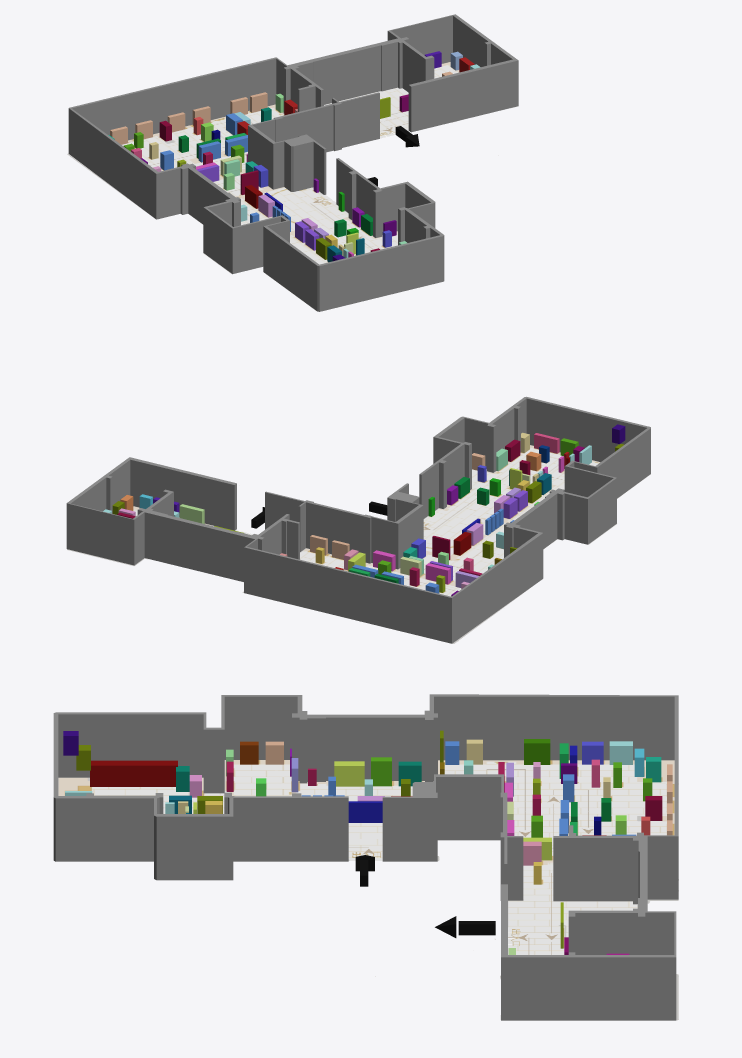
File: tao.obj
3 renders of one model, top to bottom at view 1: azimuth 30°, elevation 25°; view 2: azimuth 150°, elevation 25°; view 3: azimuth 270°, elevation 25°, orthographic. The views are drawn at different scales.
Parts seen in each view (by area): view 1: Line001, Line002, Plane001; view 2: Line001, Plane001, Line002; view 3: Line001, Plane001, Line002, Box102, Box086, Box092, Box062, Box085, Box133.
Part boxes in pixels (bbox=[...]): Line001: bbox=[68, 14, 518, 311]; Line002: bbox=[248, 92, 379, 194]; Plane001: bbox=[67, 62, 516, 311]; Line001: bbox=[66, 396, 650, 643]; Plane001: bbox=[67, 445, 650, 643]; Line002: bbox=[265, 483, 423, 569]; Line001: bbox=[53, 694, 678, 1020]; Plane001: bbox=[58, 760, 678, 1020]; Line002: bbox=[382, 774, 523, 900]; Box102: bbox=[90, 760, 177, 786]; Box086: bbox=[334, 761, 364, 786]; Box092: bbox=[348, 801, 382, 822]; Box062: bbox=[524, 739, 550, 764]; Box085: bbox=[371, 757, 391, 786]; Box133: bbox=[458, 921, 495, 935].
Size of the model in its own units: 105 by 10 by 102.
